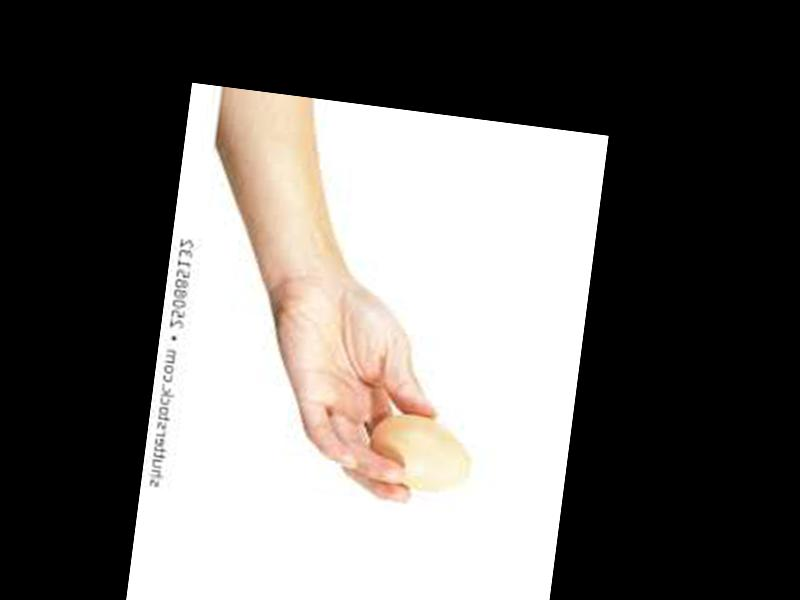Eggs: (361, 409, 478, 496)
